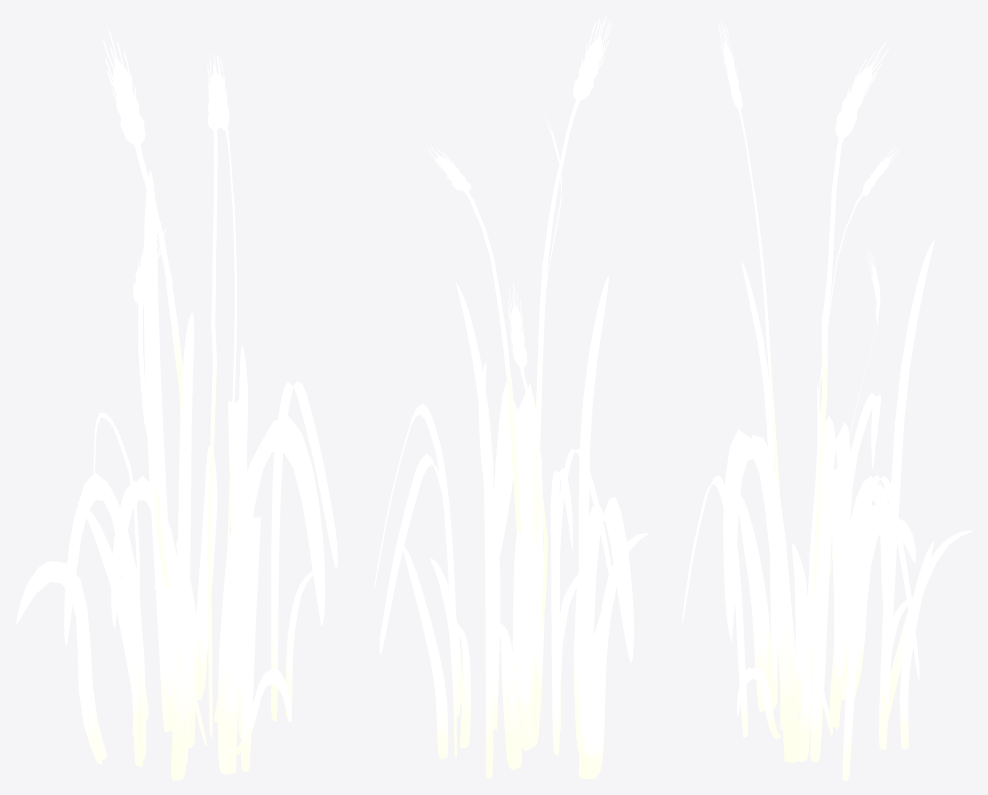
3 views of the same model, side by side, from view 1: azimuth 30°, elevation 25°; view 2: azimuth 150°, elevation 25°; view 3: azimuth 270°, elevation 25° (orthographic). The views are drawn at different scales.
Parts seen in each view (by area): view 1: SM_Wheat_01_LOD0; view 2: SM_Wheat_01_LOD0; view 3: SM_Wheat_01_LOD0.
Boxes of the visible parts, left/top/right/bottom form: SM_Wheat_01_LOD0: left=16, top=30, right=337, bottom=780; SM_Wheat_01_LOD0: left=374, top=15, right=648, bottom=779; SM_Wheat_01_LOD0: left=682, top=19, right=972, bottom=780.
Bounding box in the file's own units: 0.5763 × 1.46 × 0.5395.
